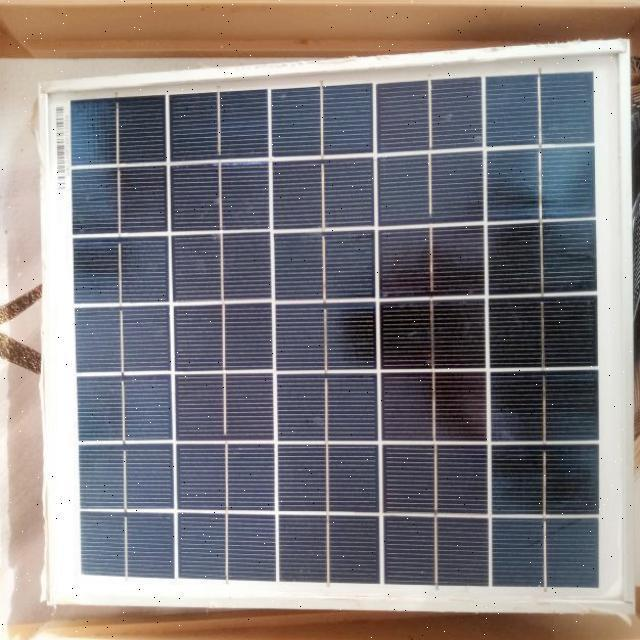Normal Solar Panel: (45, 46, 632, 604)
